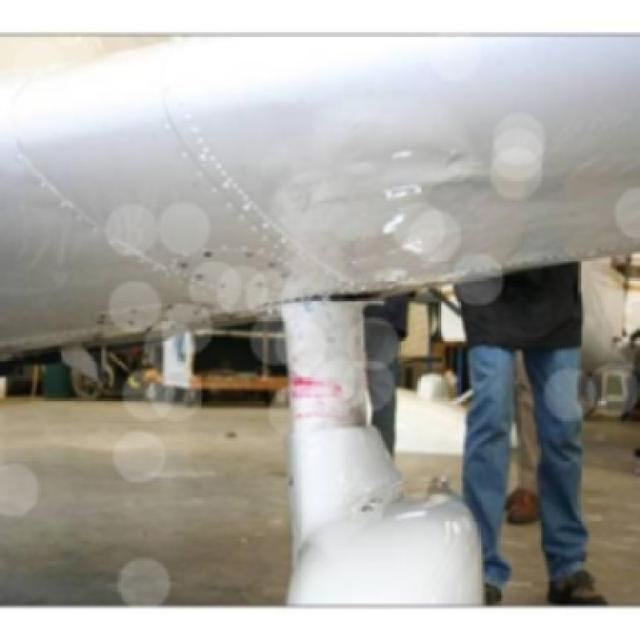dent: (378, 180, 440, 208)
